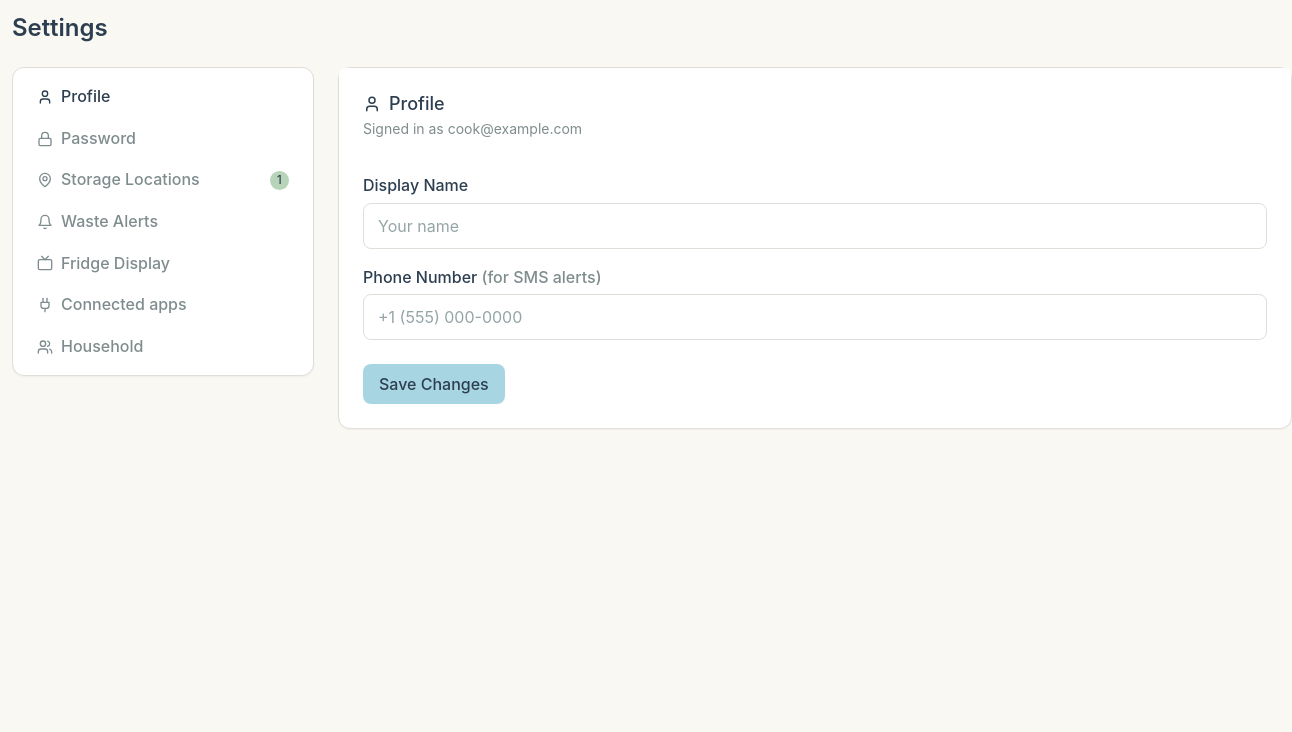
Settings waste alerts panel › opens the SMS preferences when the section is chosen
Click the button "Waste Alerts".
click(98, 221)  # box [37,211,158,231]
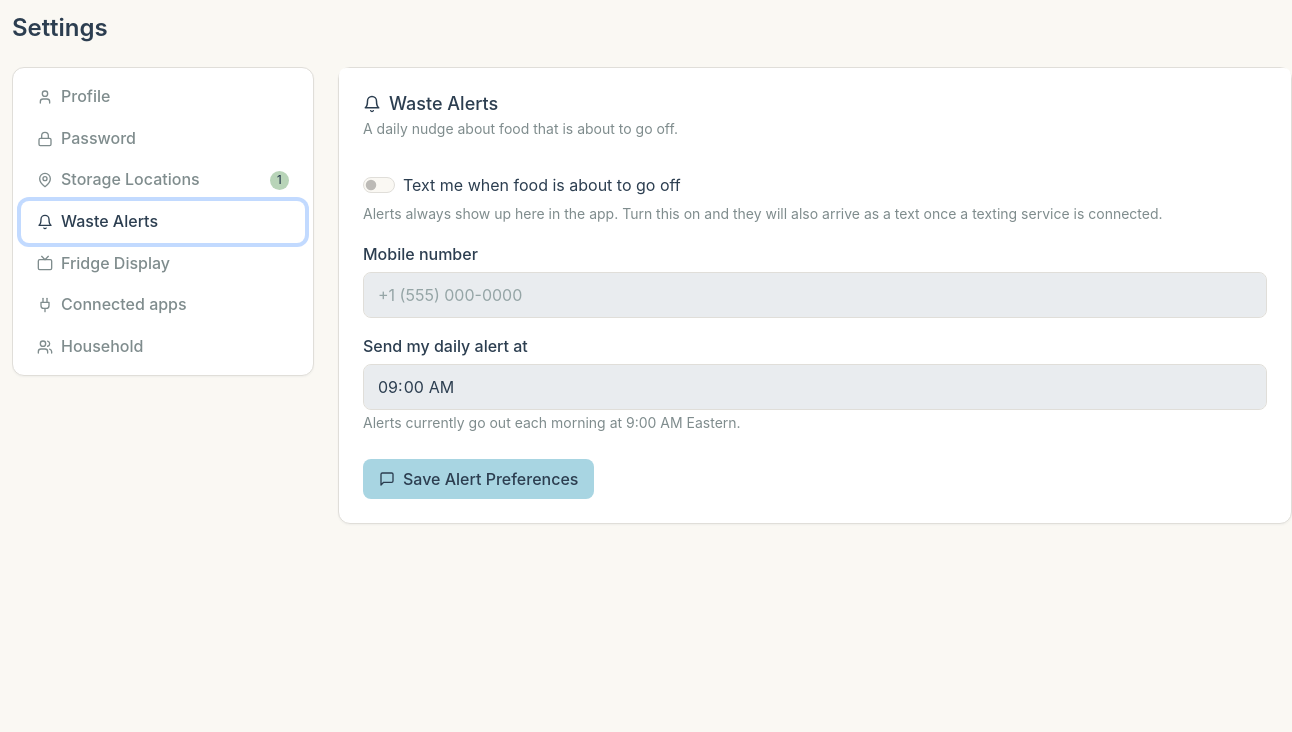
Now the form with test id "sms-alert-settings" is shown, box [363,173,1267,499]
Now the text "A daily nudge about food that is about to go off." is shown, box [363,120,678,137]
